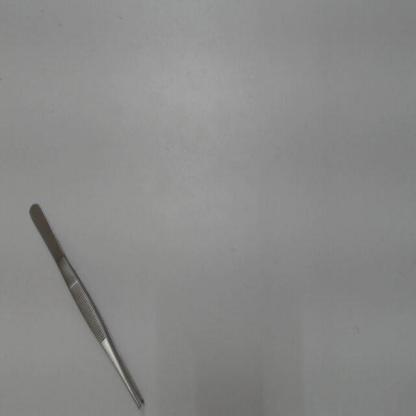Gillies Toothed Dissector: (24, 183, 148, 412)
